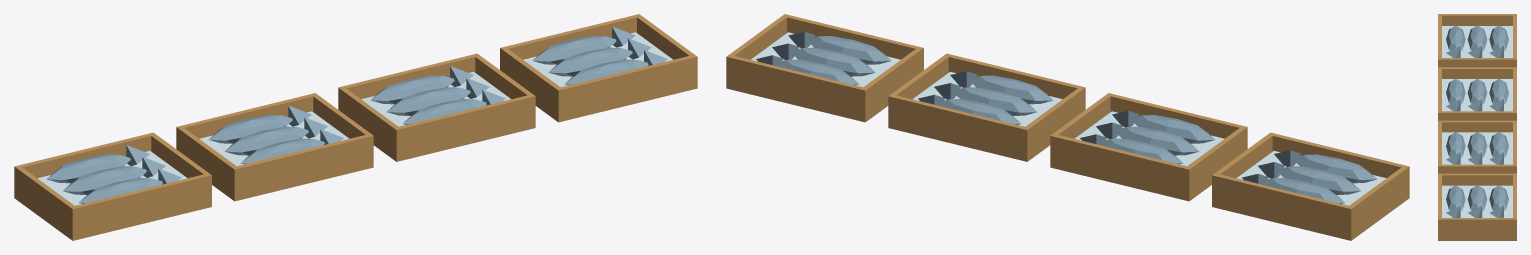
Rendered from market_food_fish.glb.
The picture shows the model from 3 angles, left to right: view 1: azimuth 30°, elevation 25°; view 2: azimuth 150°, elevation 25°; view 3: azimuth 270°, elevation 25°; orthographic projection. The views are drawn at different scales.
Parts seen in each view (by area): view 1: crate_crate_wood, goods_fish_skin (×12), goods_ice (×4); view 2: crate_crate_wood, goods_fish_skin (×12), goods_ice (×4); view 3: crate_crate_wood, goods_fish_skin (×24), goods_ice (×4).
Part boxes in pixels (x1,y1,x2,y2): crate_crate_wood: (14, 14, 697, 240); goods_fish_skin (×12): (47, 36, 648, 203); goods_ice (×4): (37, 32, 672, 205); crate_crate_wood: (726, 14, 1409, 240); goods_fish_skin (×12): (775, 36, 1376, 203); goods_ice (×4): (751, 32, 1386, 205); crate_crate_wood: (1438, 14, 1516, 240); goods_fish_skin (×24): (1446, 25, 1508, 217); goods_ice (×4): (1442, 26, 1512, 217).
Size of the model in its own units: 2.47 by 0.1333 by 0.4.
